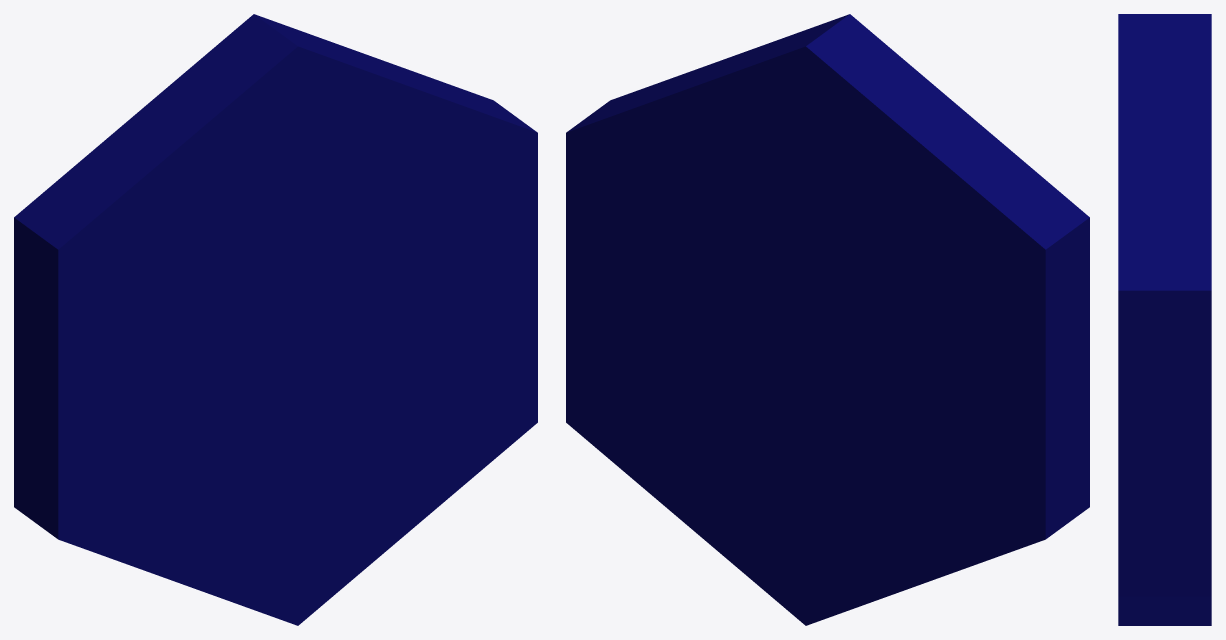
File: MayonnaiseJarLid.obj
3 renders of one model, left to right at view 1: azimuth 30°, elevation 25°; view 2: azimuth 150°, elevation 25°; view 3: azimuth 270°, elevation 25°, orthographic. The views are drawn at different scales.
Parts seen in each view (by area): view 1: glass.001; view 2: glass.001; view 3: glass.001.
Part boxes in pixels (x1,y1,x2,y2): glass.001: (14,14,537,625); glass.001: (566,14,1089,625); glass.001: (1118,14,1211,625).
Size of the model in its own units: 0.1317 by 0.1521 by 0.021.
